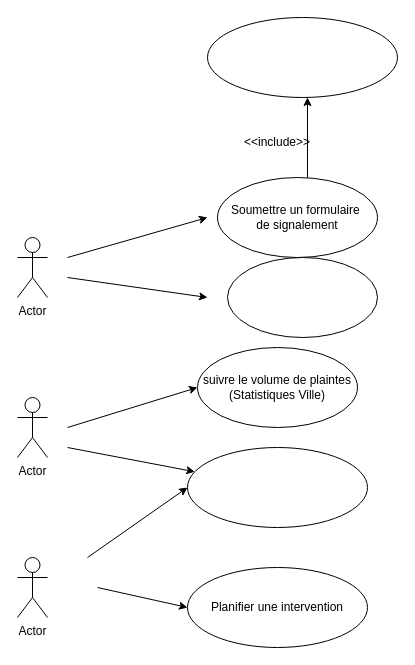
Image size: 415x665. Some labels were removed from this diagram. Here are the shapes that lost their labels. From the top down, the centre of each, then its label:
At point 302,57: "Joindre une photo géolocalisée".
At point 302,297: "Gérer son compte".
At point 277,487: "Consulter les signalements".
